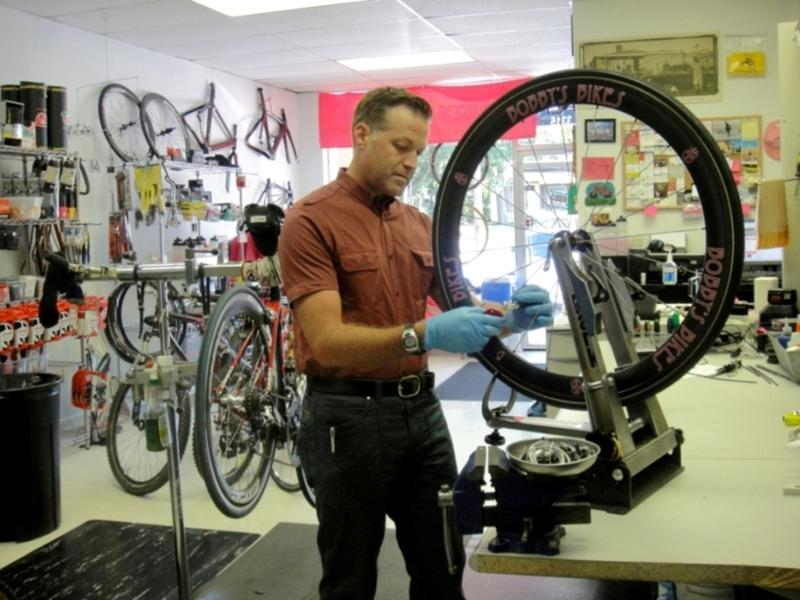person: (280, 86, 557, 599)
